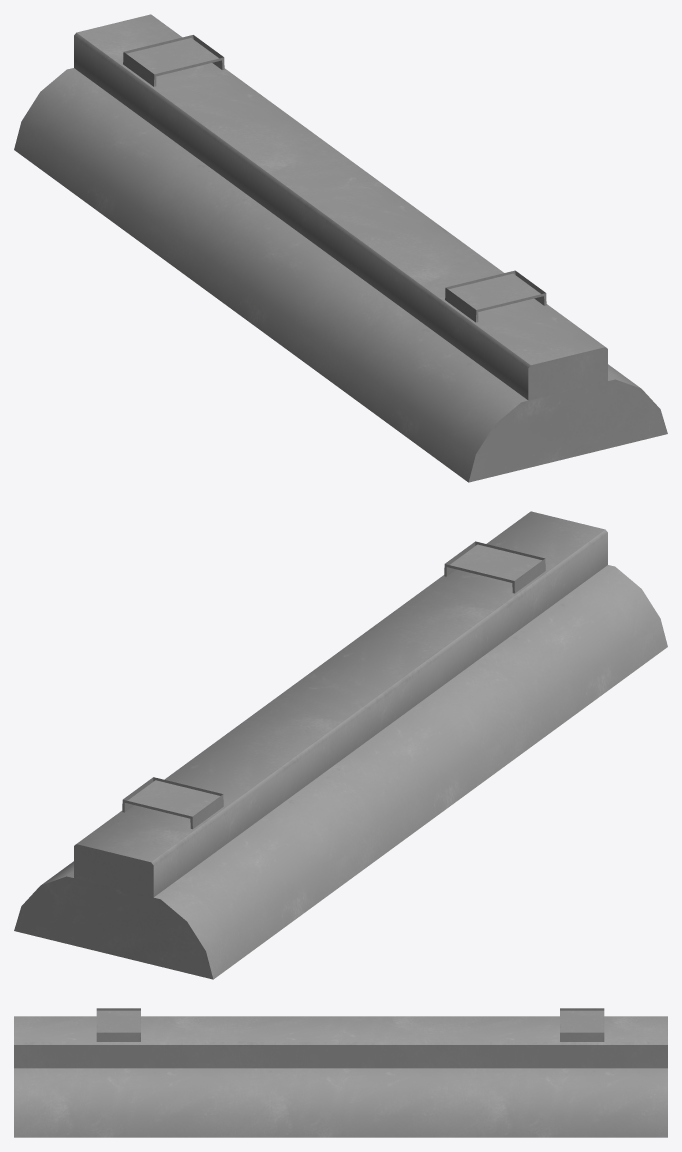
Rendered from Lamp_A.fbx.
3 renders of one model, top to bottom at view 1: azimuth 30°, elevation 25°; view 2: azimuth 150°, elevation 25°; view 3: azimuth 270°, elevation 25°, orthographic. The views are drawn at different scales.
Parts seen in each view (by area): view 1: Lamp_A; view 2: Lamp_A; view 3: Lamp_A.
Boxes of the visible parts, x1,y1,x2,y2 form: Lamp_A: [14, 14, 667, 482]; Lamp_A: [14, 511, 667, 979]; Lamp_A: [14, 1008, 667, 1137].
Bounding box in the file's own units: 24.31 × 13.36 × 96.
